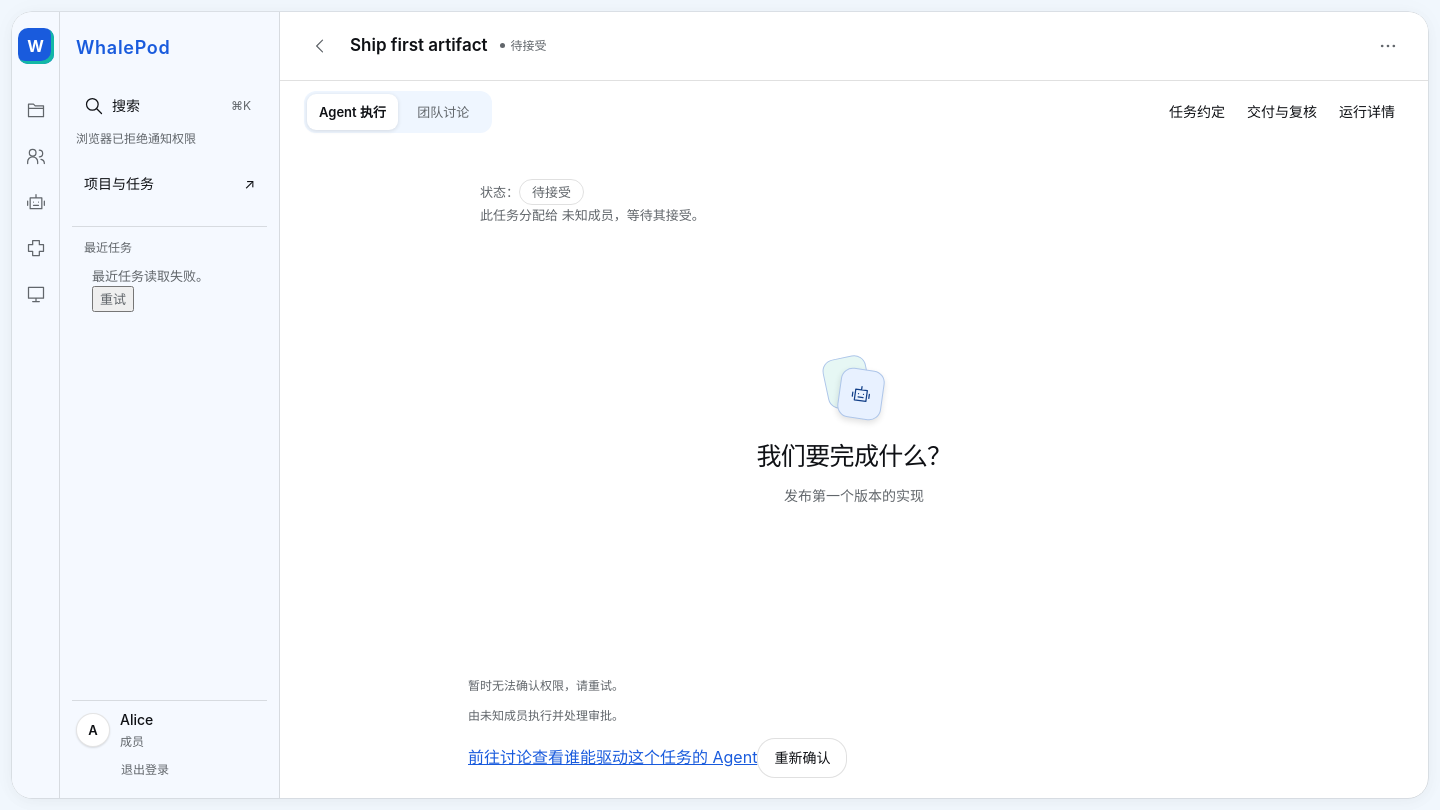
Scenario: artifact-list（Task Room 右侧） › 非 owner（Alice）看不到 candidate 行，也看不到发布按钮
Click the button "交付与复核" at (1282, 112), box top-left (1238, 92), bottom-right (1326, 132)
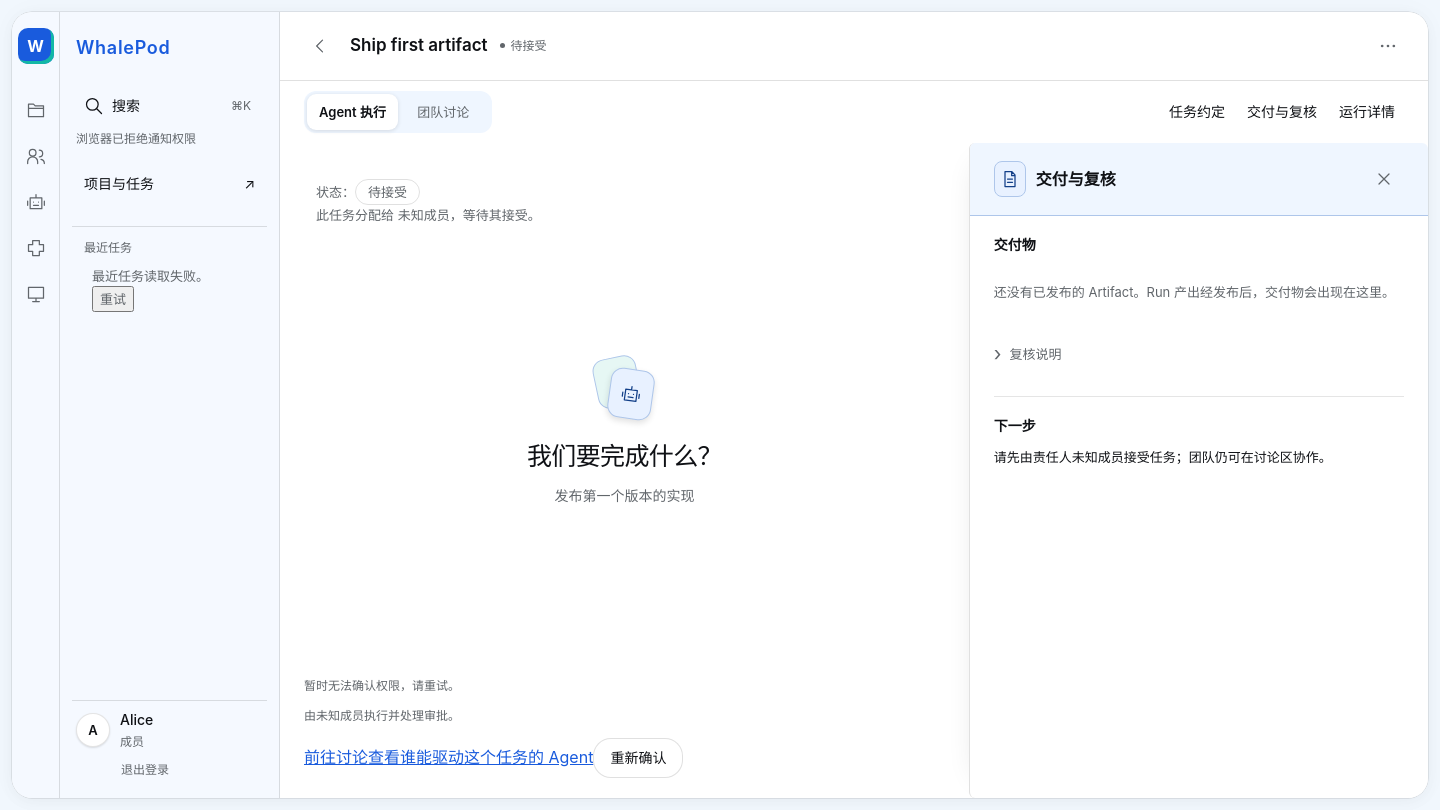
Expected: the text "还没有已发布的 Artifact。Run 产出经发布后，交付物会出现在这里。" is shown, top-left (994, 284), bottom-right (1395, 300)
